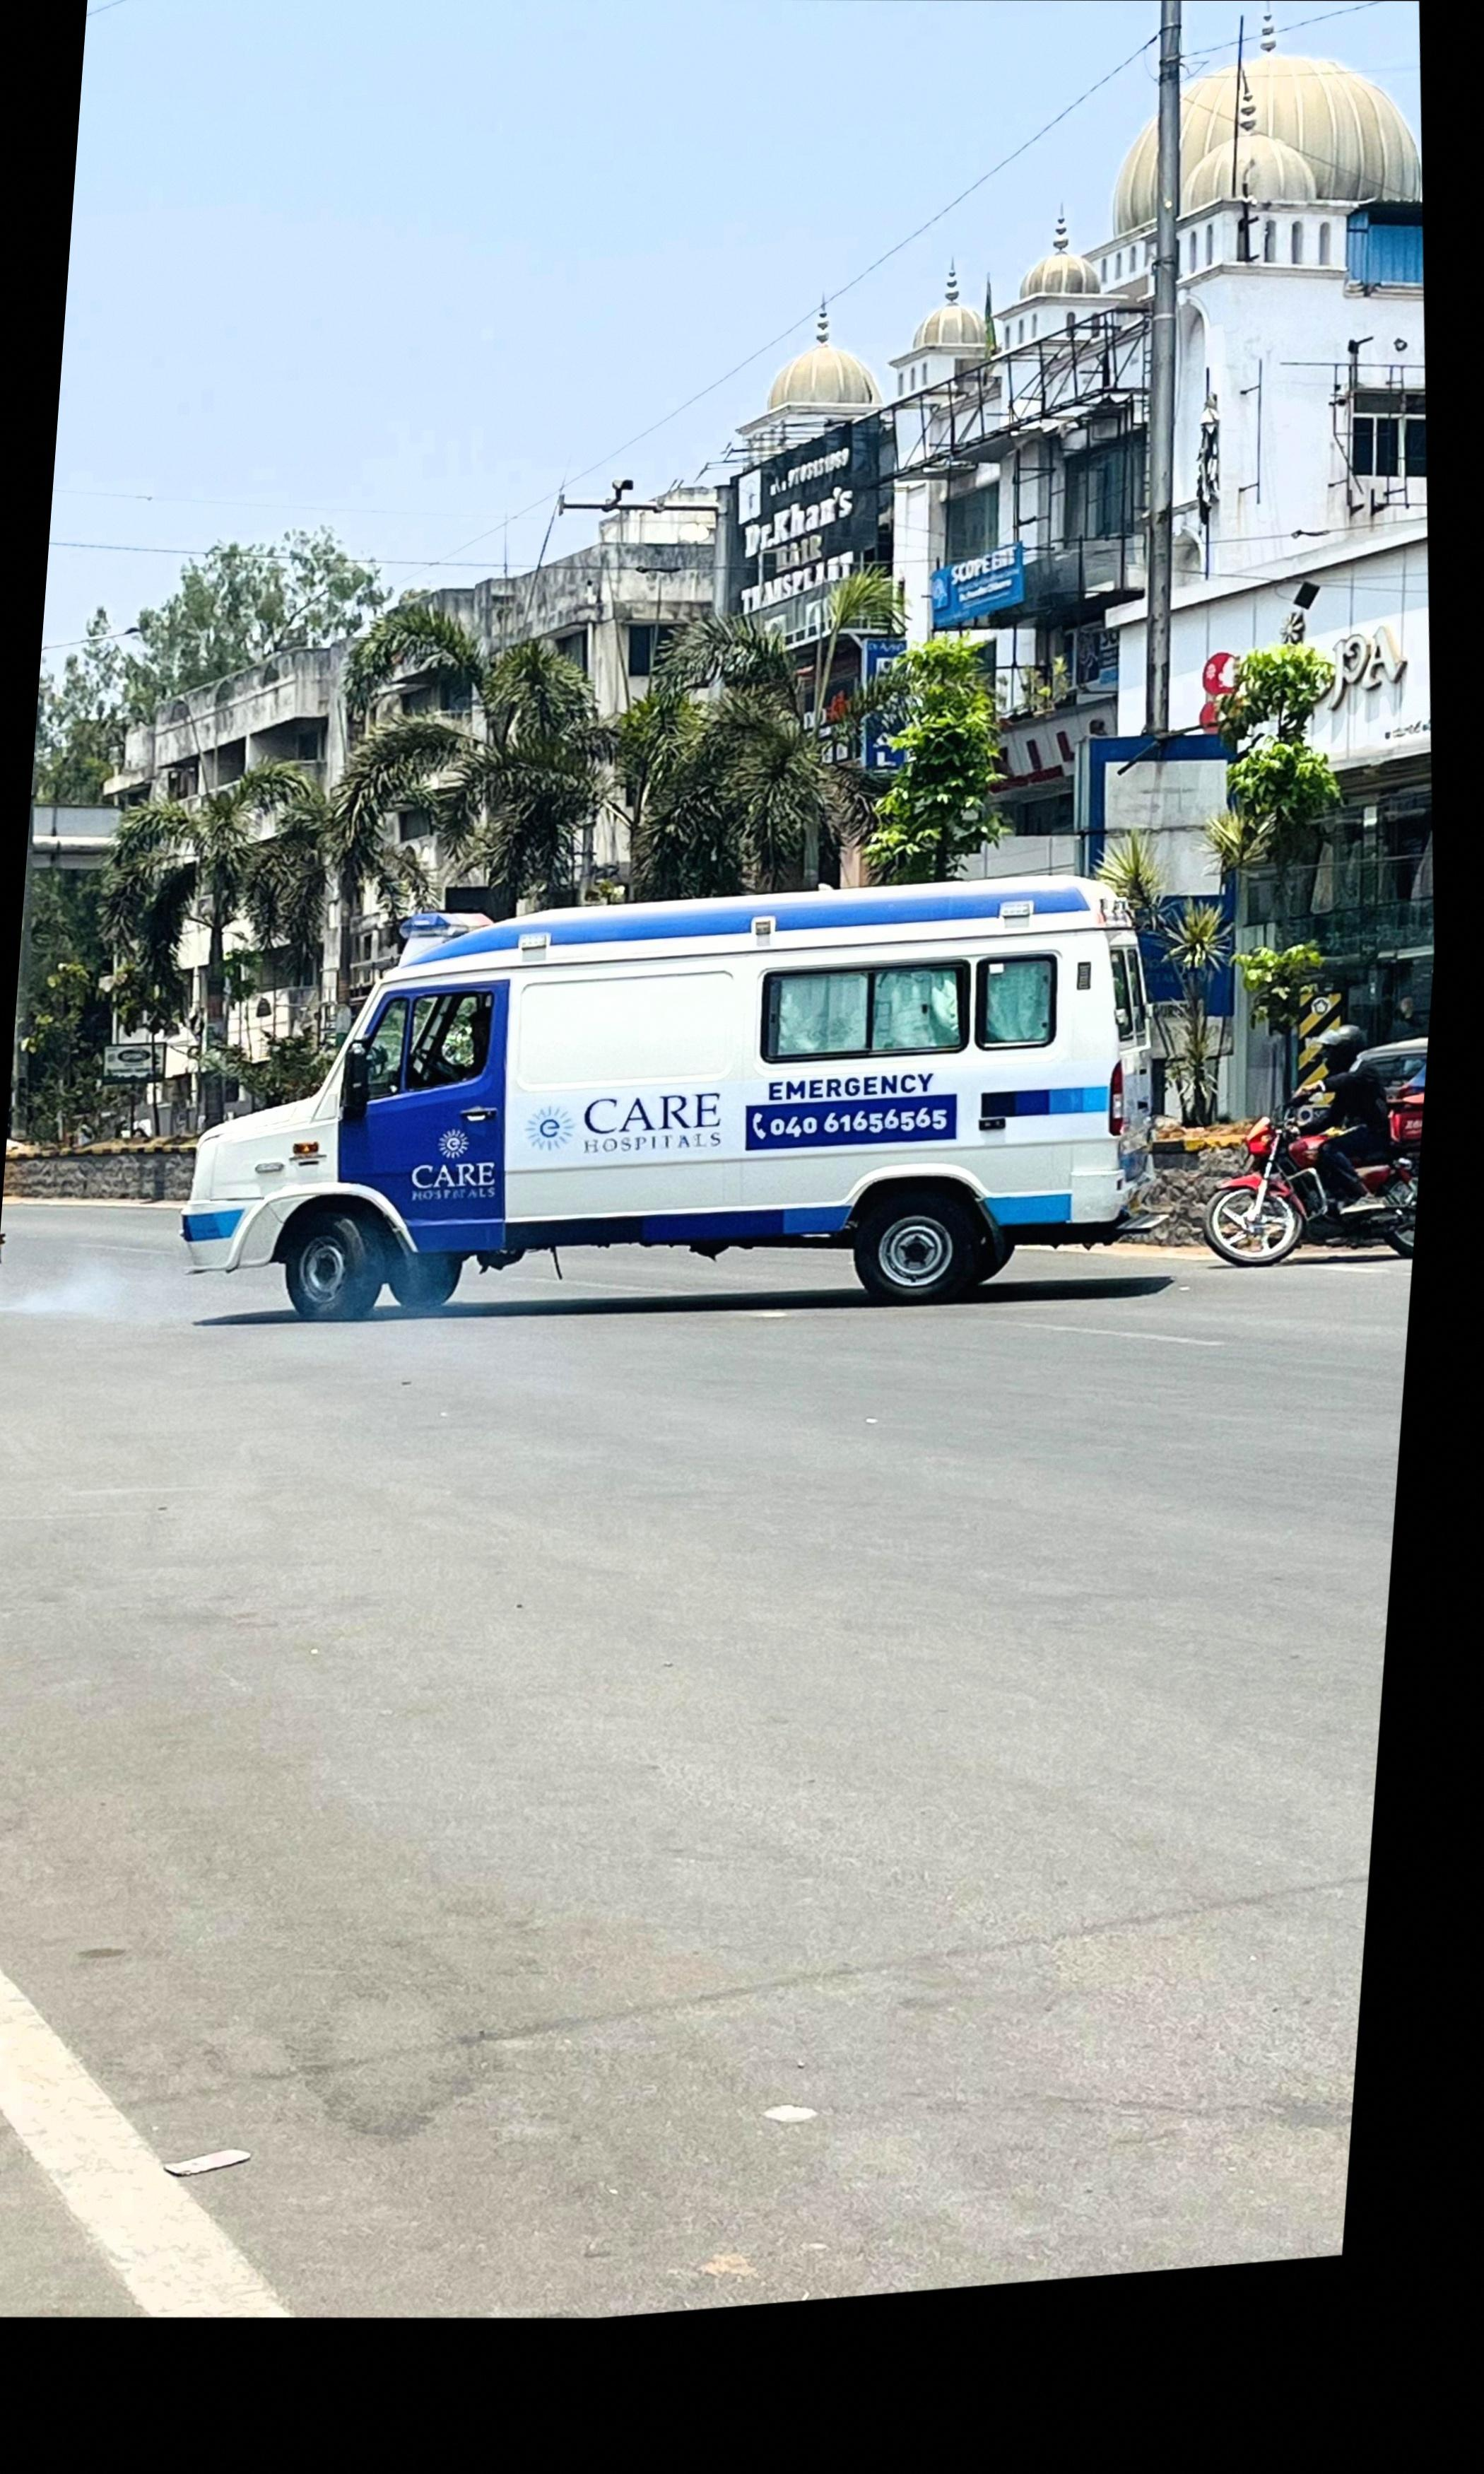ambulance: (180, 880, 1150, 1329)
